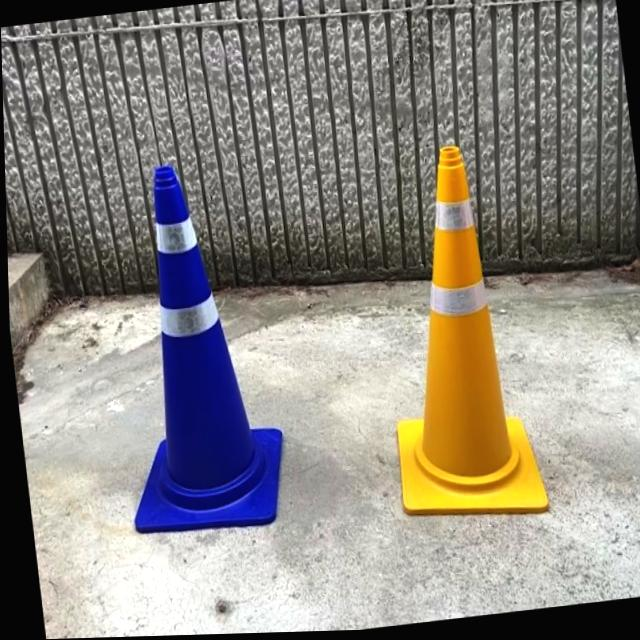b_rub: (131, 167, 278, 534)
y_rub: (394, 148, 545, 518)
